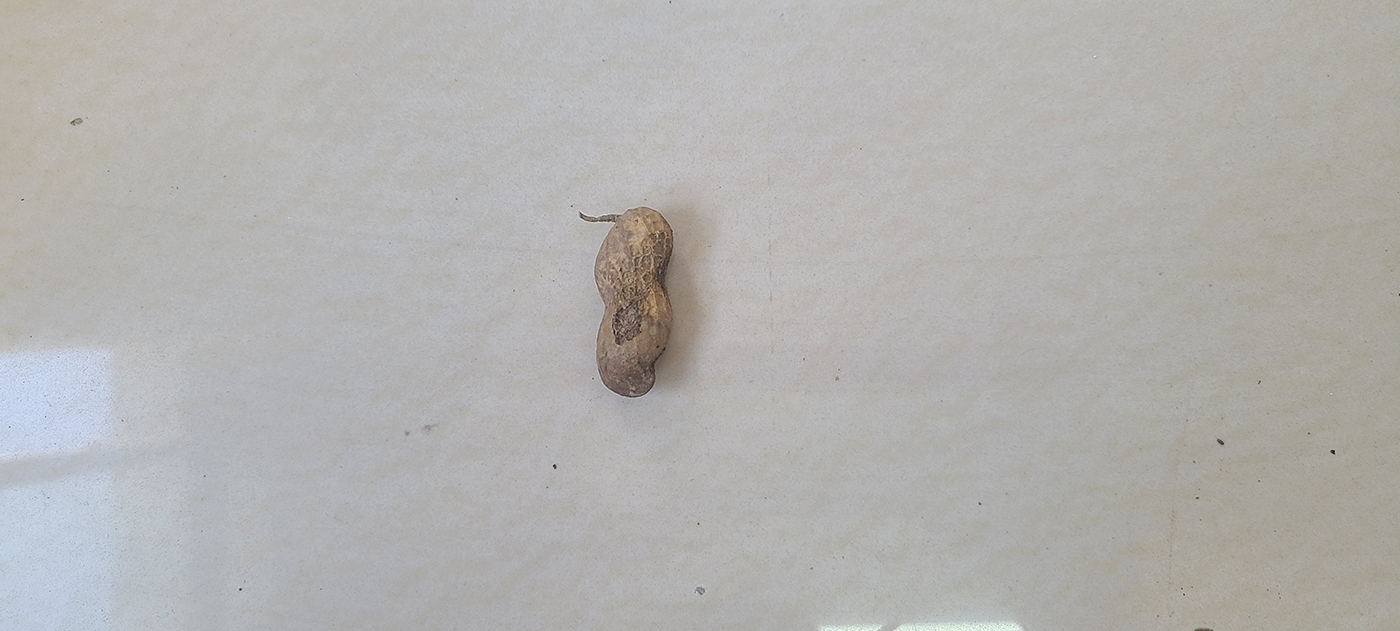l: (596, 206, 674, 398)
